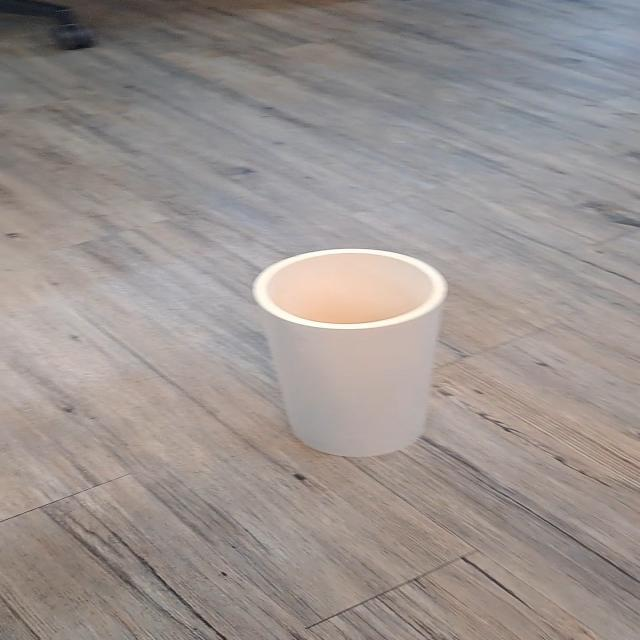CORAL: (205, 214, 556, 509)
